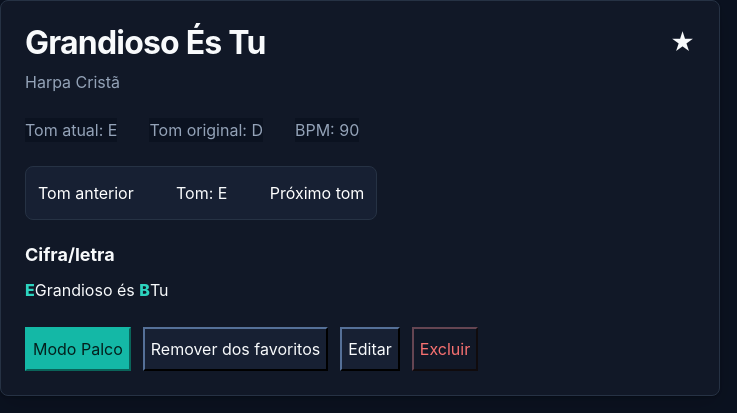
Test case: SongDetailPage › removes a song from favorites
What coordinates should you click on to do the following:
click the button "Remover dos favoritos"
I would click on:
 (236, 349)
Its box is [143, 327, 328, 371].
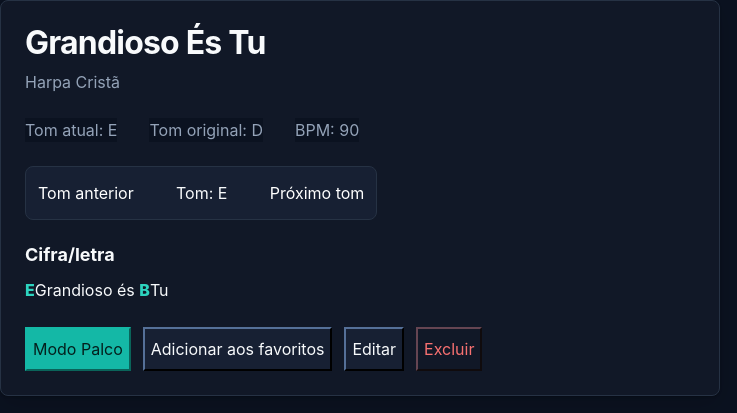
Expected: the button "Adicionar aos favoritos" is shown, [143, 327, 332, 371]
